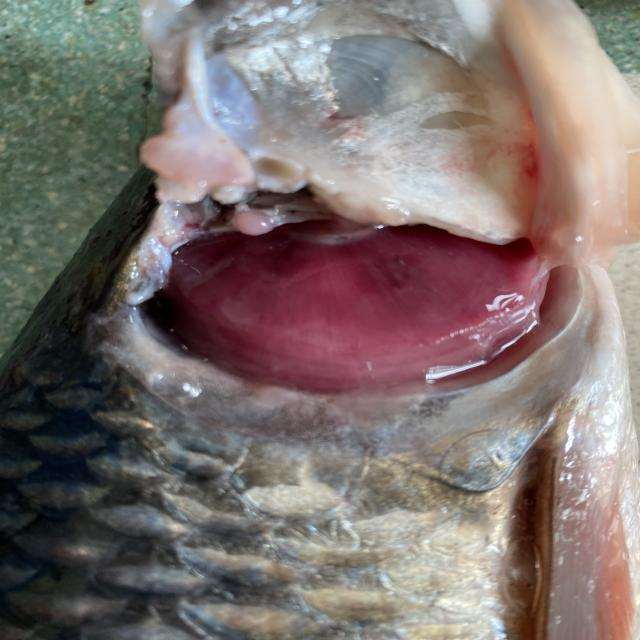Fresh: (91, 162, 627, 414)
